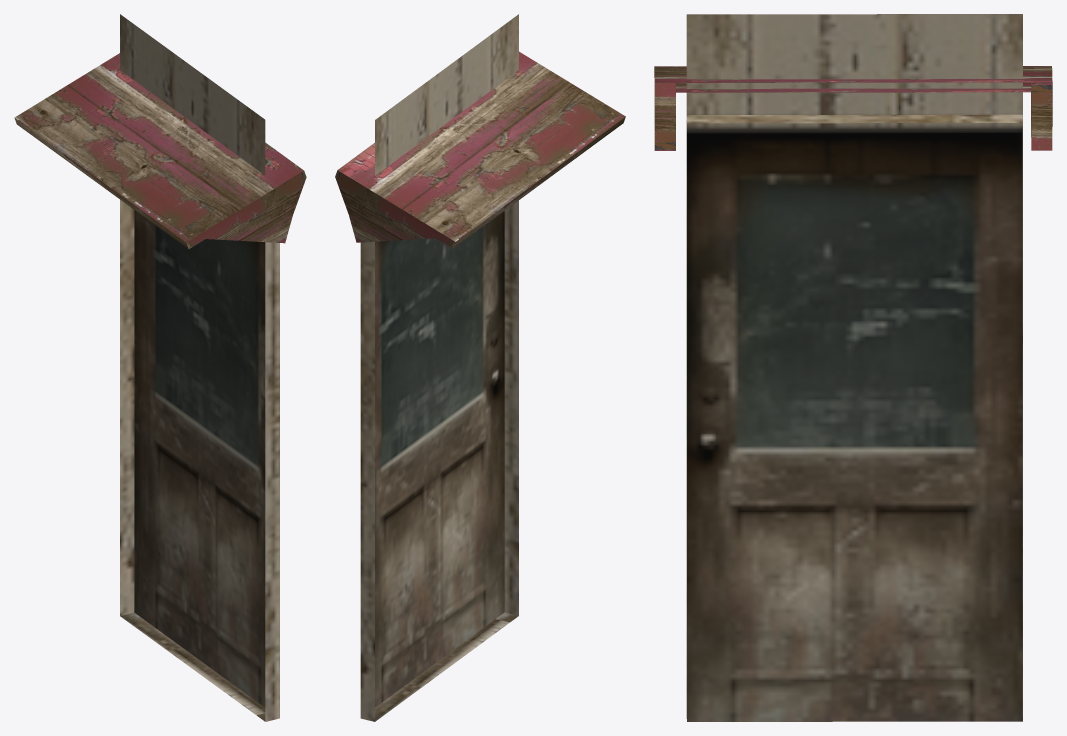
The model's file is House_01_07.fbx.
3 renders of one model, left to right at view 1: azimuth 30°, elevation 25°; view 2: azimuth 150°, elevation 25°; view 3: azimuth 270°, elevation 25°, orthographic. The views are drawn at different scales.
Parts seen in each view (by area): view 1: Cube.003; view 2: Cube.003; view 3: Cube.003.
Boxes of the visible parts, bbox=[...] form: Cube.003: bbox=[14, 14, 306, 721]; Cube.003: bbox=[335, 14, 625, 721]; Cube.003: bbox=[654, 14, 1052, 721].
Bounding box in the file's own units: 1.6 × 7.6 × 3.92.
